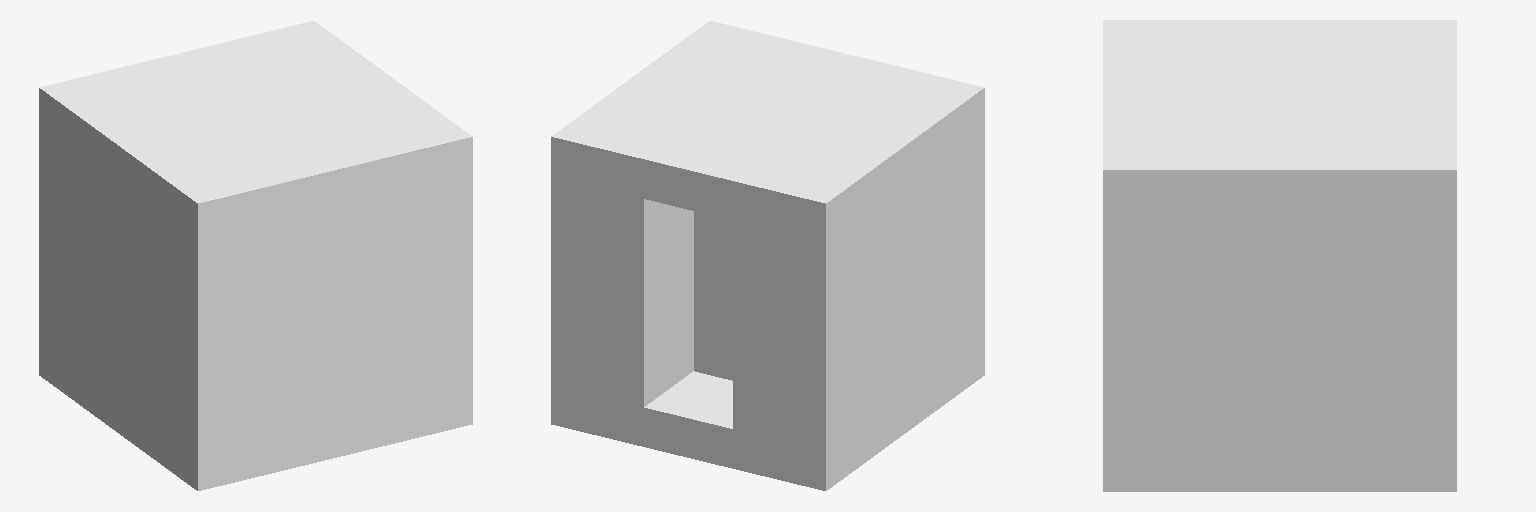
The robot description file, URDF, robot "Line_cube_bottle_preprocessed":
<?xml version="1.0" ?>
<robot name="Line_cube_bottle_preprocessed">
  <link name="baseLink">
    <contact>
    	<friction_anchor/>
    	   <lateral_friction value="1.0"/>
    </contact>
    <inertial>
      <origin rpy="0 0 0" xyz="0 0 0"/>
       <!-- mass controls penetration -->
       <mass value=".5"/>
       <inertia ixx="1e-4" ixy="0" ixz="0" iyy="1e-4" iyz="0" izz="1e-4"/>
    </inertial>
    <visual>
      <origin rpy="0 0 0" xyz="0 0 0"/>
      <geometry>
        <mesh filename="Line_cube_bottle_preprocessed.obj"/>
      </geometry>
       <material name="white">
        <color rgba="1 1 1 1"/>
      </material>
    </visual>
    <collision>
      <origin rpy="0 0 0" xyz="0 0 0"/>
      <geometry>
        <mesh filename="Line_cube_bottle_preprocessed.obj"/>
      </geometry>
    </collision>
  </link>
</robot>

--- Facts derived from the render (not from the file) ---
3 views of the same robot in one strip: view 1: azimuth 30°, elevation 25°; view 2: azimuth 150°, elevation 25°; view 3: azimuth 270°, elevation 25° (orthographic).
Model Line_cube_bottle_preprocessed with 1 links and 0 joints (none), rooted at baseLink, posed all joints at 0.
Links seen in each view (by area): view 1: baseLink; view 2: baseLink; view 3: baseLink.
Boxes of the visible links, x1=… form: baseLink: x1=39, y1=21, x2=472, y2=490; baseLink: x1=551, y1=21, x2=984, y2=490; baseLink: x1=1103, y1=20, x2=1456, y2=491.
Size in the robot's own frame: 0.08 by 0.08 by 0.08 metres.
Meshes: 1 distinct files referenced, 1 mesh visuals loaded (1 OBJ).